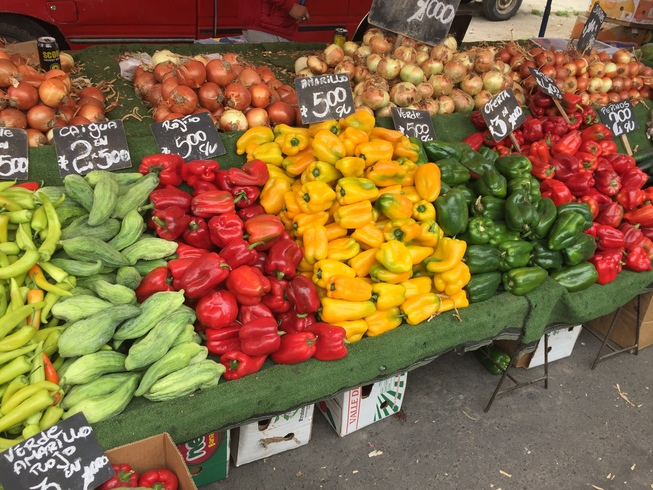precio: (1, 405, 112, 488), (149, 106, 232, 176), (51, 122, 135, 182), (370, 1, 457, 44), (292, 68, 357, 123), (475, 84, 529, 140), (386, 101, 444, 148), (575, 2, 616, 57), (592, 93, 638, 138), (1, 122, 33, 179), (525, 61, 566, 105)
